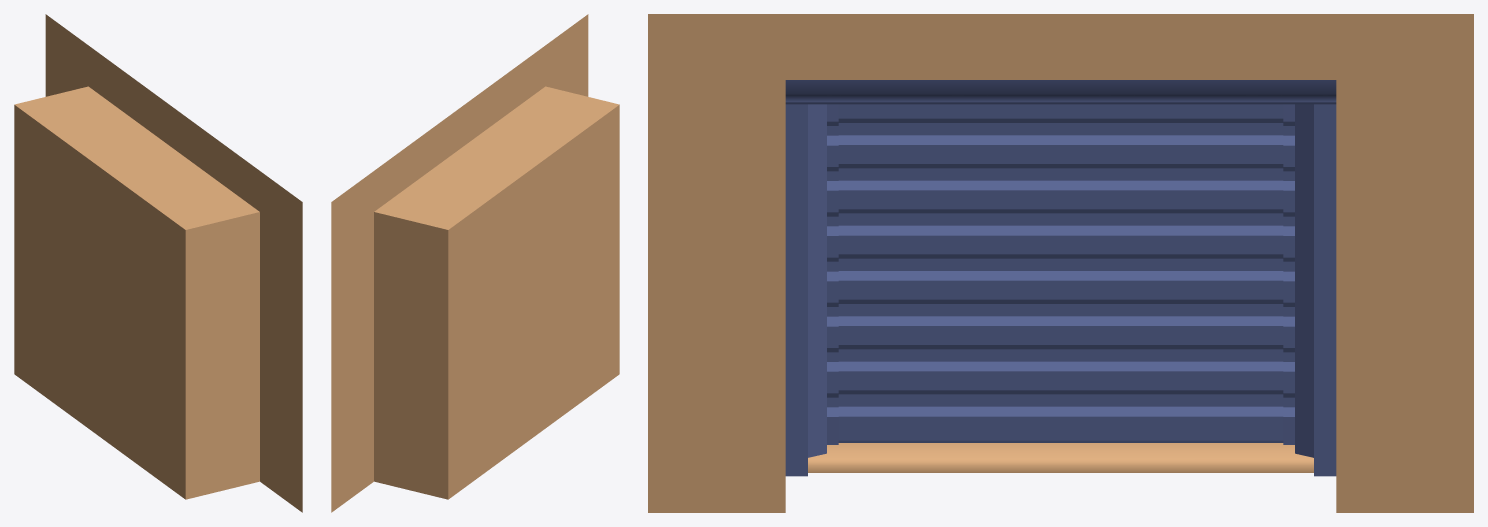
The model's file is sm_portadeSubir_01.fbx.
The picture shows the model from 3 angles, left to right: view 1: azimuth 30°, elevation 25°; view 2: azimuth 150°, elevation 25°; view 3: azimuth 270°, elevation 25°; orthographic projection. The views are drawn at different scales.
Visible parts, largest first — view 1: sm_portadeSubir_01; view 2: sm_portadeSubir_01; view 3: sm_portadeSubir_01.
Part boxes in pixels (left/top/right/bottom): sm_portadeSubir_01: left=14, top=14, right=302, bottom=512; sm_portadeSubir_01: left=331, top=14, right=619, bottom=512; sm_portadeSubir_01: left=648, top=14, right=1473, bottom=512.
Size of the model in its own units: 1 by 4 by 6.
